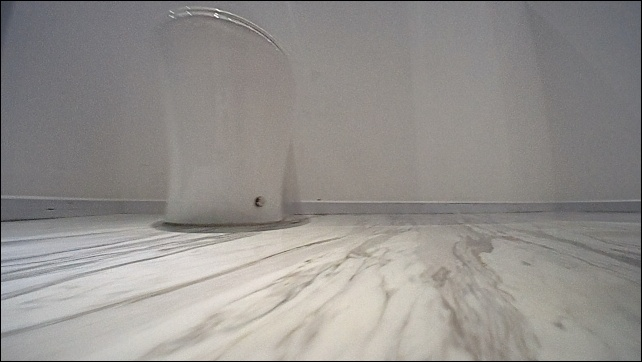toilet: (146, 1, 303, 235)
